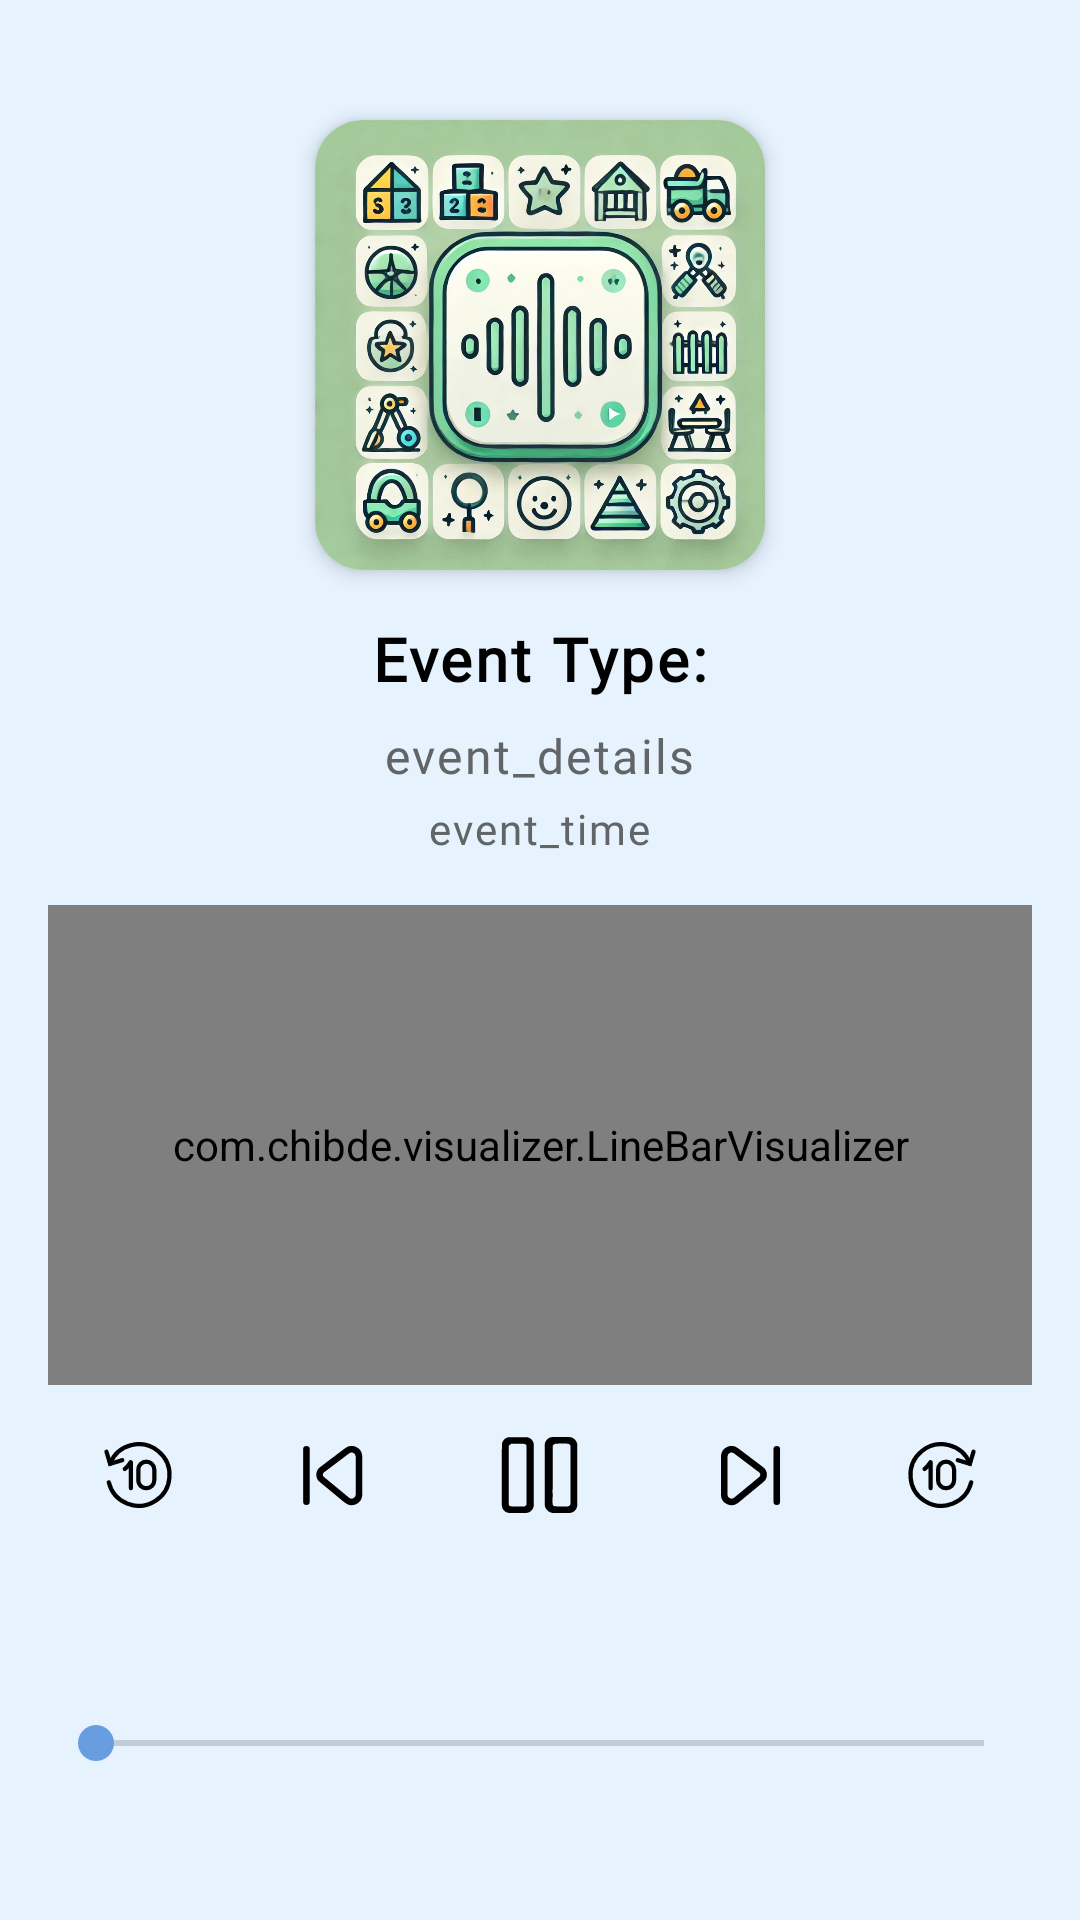

Screen size 1080w x 1920h. Icon name, then its center in pixels as (x=x, y=y):
Fast Forward: (x=942, y=1475)
Next: (x=750, y=1476)
Play/Stop: (x=539, y=1475)
Previous: (x=333, y=1476)
Rewind: (x=138, y=1475)
